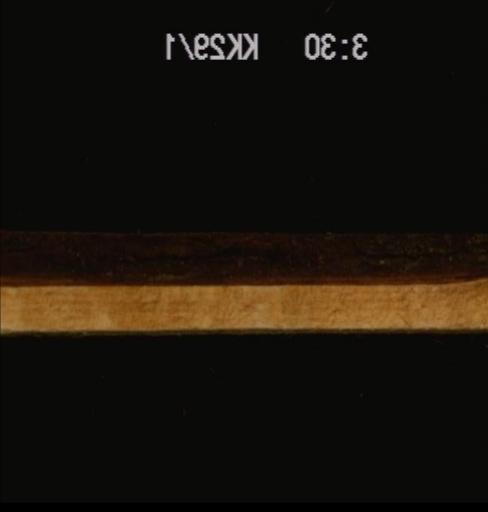wave: (0, 232, 486, 291)
